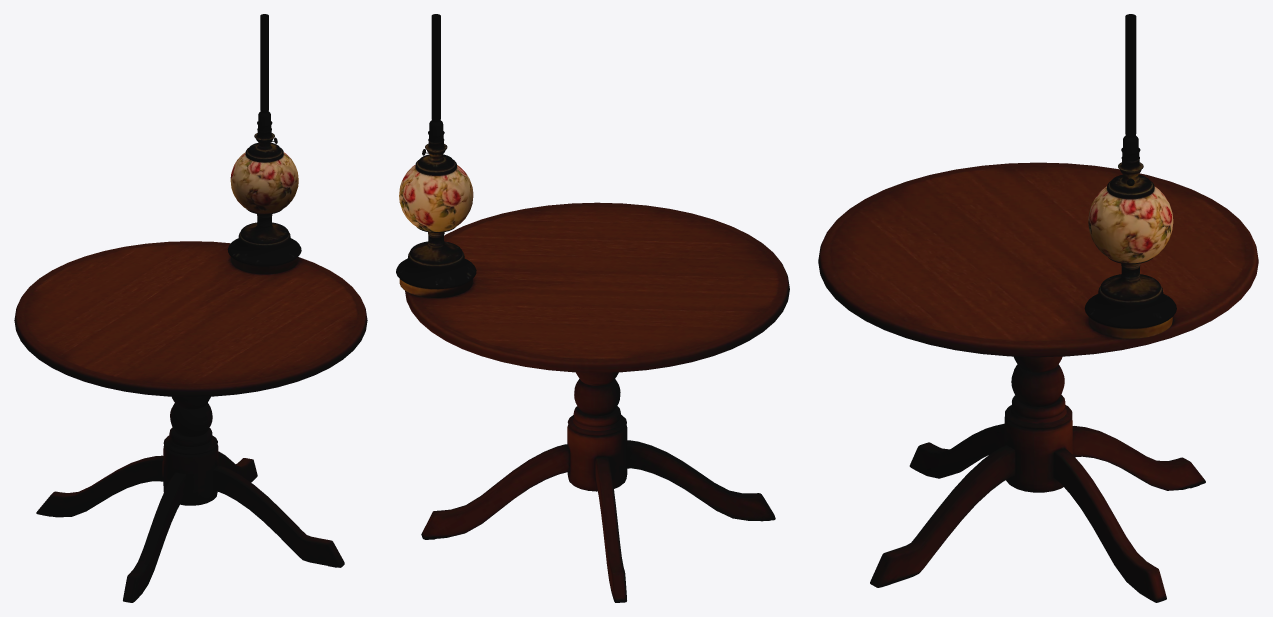
Rendered from table.glb.
The picture shows the model from 3 angles, left to right: view 1: azimuth 30°, elevation 25°; view 2: azimuth 150°, elevation 25°; view 3: azimuth 270°, elevation 25°; orthographic projection. The views are drawn at different scales.
Bounding box in the file's own units: 18.37 × 26.98 × 18.37.
1 material, 1 textured.
